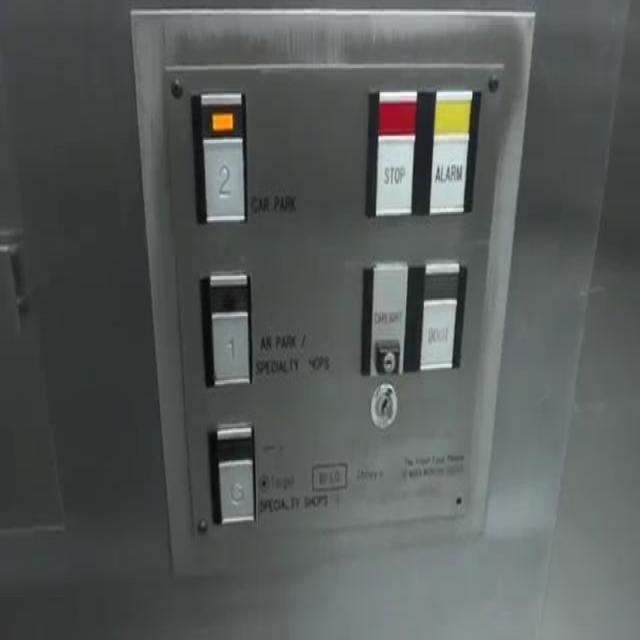1: (208, 306, 250, 390)
2: (200, 135, 247, 225)
G: (215, 452, 255, 525)
keyhole: (368, 382, 397, 429), (373, 332, 401, 377)
text: (417, 294, 457, 370)
text_alarm bell: (427, 131, 469, 216)
text_stop: (370, 129, 416, 220)
